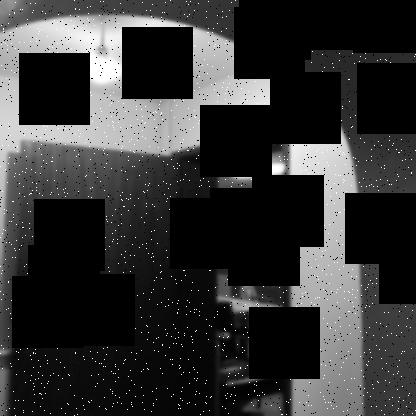Porte: (12, 121, 292, 416)
